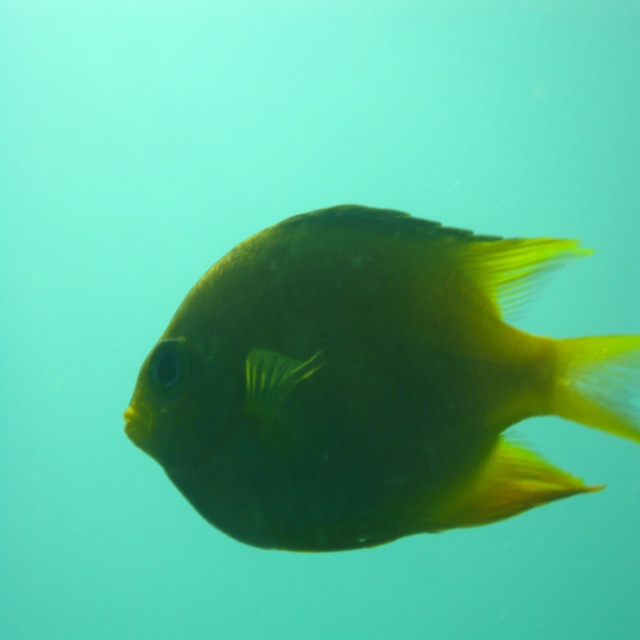Fish: (123, 192, 640, 582)
